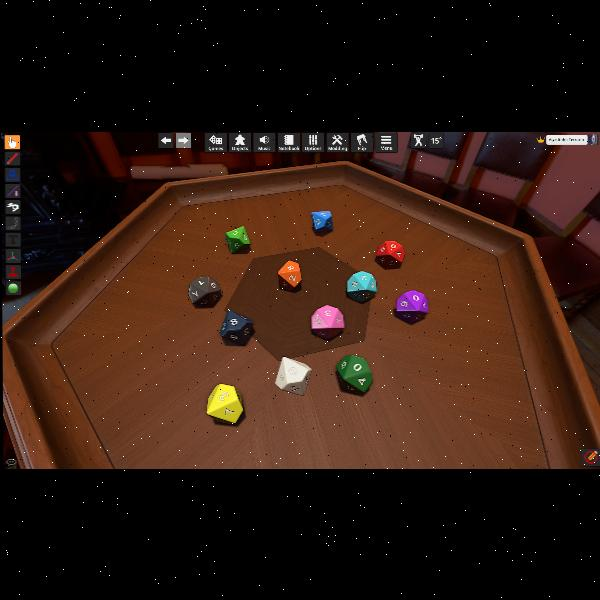d10: (207, 383, 243, 423), (275, 356, 312, 394), (335, 354, 370, 393), (219, 309, 252, 345), (311, 305, 344, 339), (395, 288, 426, 321), (188, 276, 219, 308), (347, 271, 376, 301), (375, 240, 402, 268), (278, 260, 302, 290), (225, 225, 250, 252), (310, 210, 331, 232)
